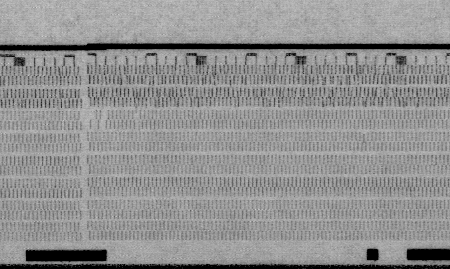Broken hole: (87, 109, 109, 131)
Oblique printing: (365, 88, 402, 107)
